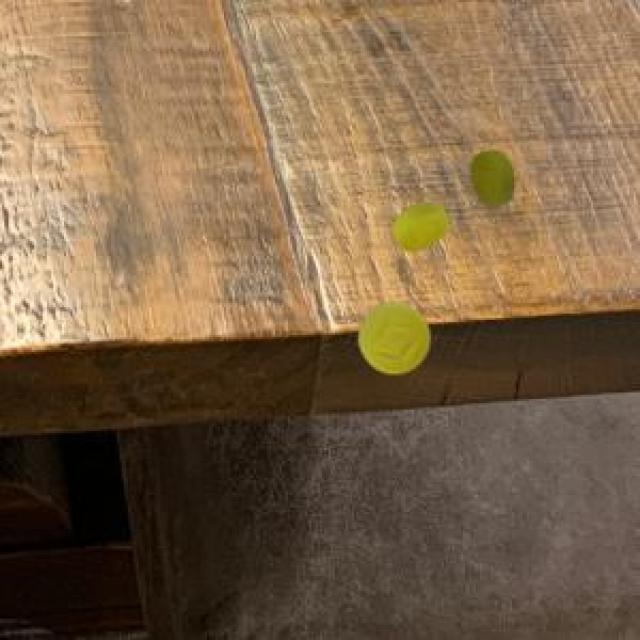Decolgen: (347, 295, 432, 378), (458, 137, 522, 217), (382, 194, 446, 261)
